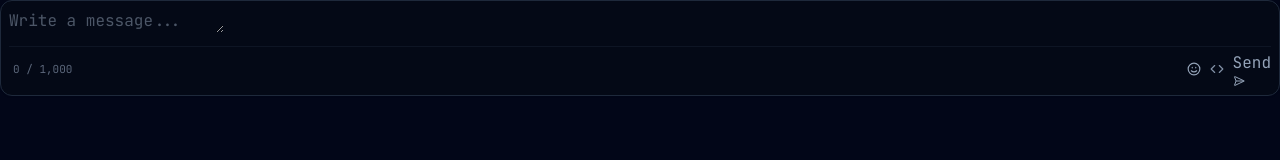
it: ChatComposer component › updates live counter as user types and enables send button
This screenshot has width=1280, height=160.
In the text box named "send a message": (116, 21) [9,9,224,33], type "Hello peer!"
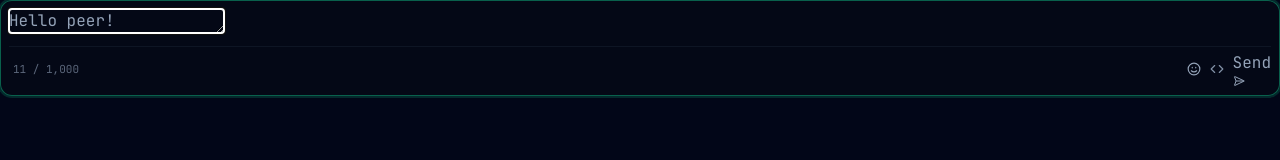
Expected: the button with aria-label "send message" is enabled, [1233,51,1271,87]
Result: the element with test id "chat-composer-counter" reads "11 / 1,000" at [9,61,83,77]
